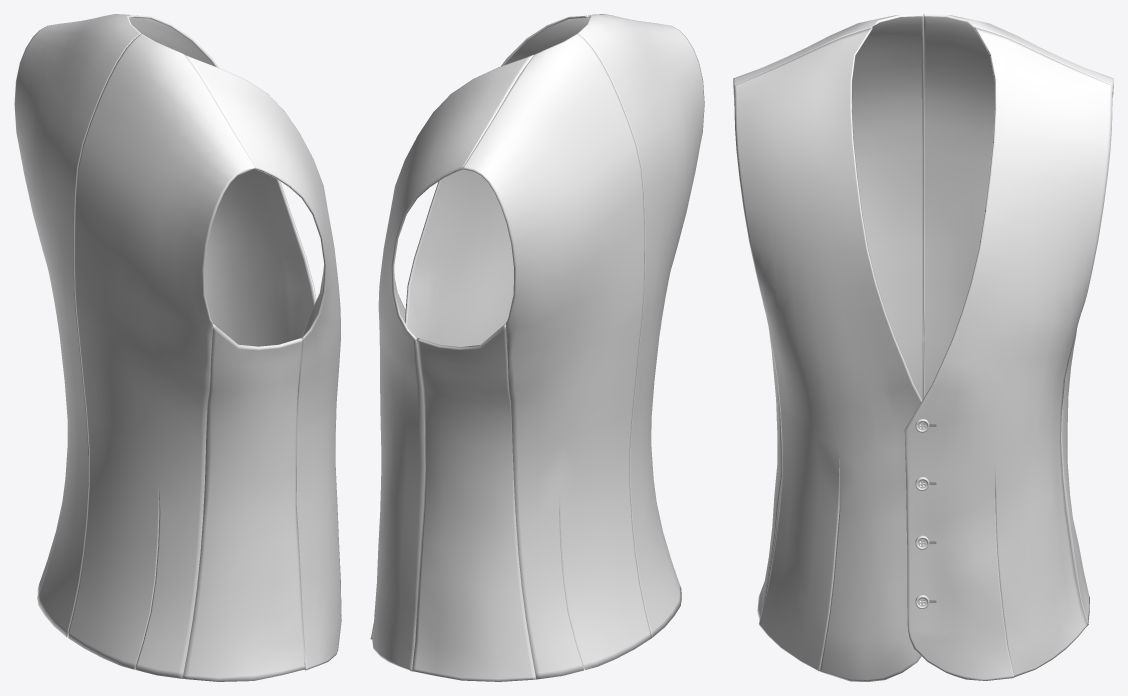
Rendered from single_breasted_round_bottom.glb.
3 views of the same model, side by side, from view 1: azimuth 30°, elevation 25°; view 2: azimuth 150°, elevation 25°; view 3: azimuth 270°, elevation 25° (orthographic). The views are drawn at different scales.
Visible parts, largest first — view 1: SM_Vest_Back_outside, SM_Vest_front_Sigle_Round; view 2: SM_Vest_Back_outside, SM_Vest_front_Sigle_Round; view 3: SM_Vest_front_Sigle_Round, SM_Vest_Back_outside, SM_Button_4.
Part boxes in pixels (bbox=[...]): SM_Vest_Back_outside: bbox=[14, 14, 306, 681]; SM_Vest_front_Sigle_Round: bbox=[124, 14, 341, 670]; SM_Vest_Back_outside: bbox=[412, 14, 704, 681]; SM_Vest_front_Sigle_Round: bbox=[370, 15, 589, 671]; SM_Vest_front_Sigle_Round: bbox=[733, 27, 1113, 681]; SM_Vest_Back_outside: bbox=[733, 14, 1113, 624]; SM_Button_4: bbox=[915, 419, 936, 608].
Bounding box in the file's own units: 1.56 × 3.64 × 2.12.
Materials: 5 (1 with a texture image).
